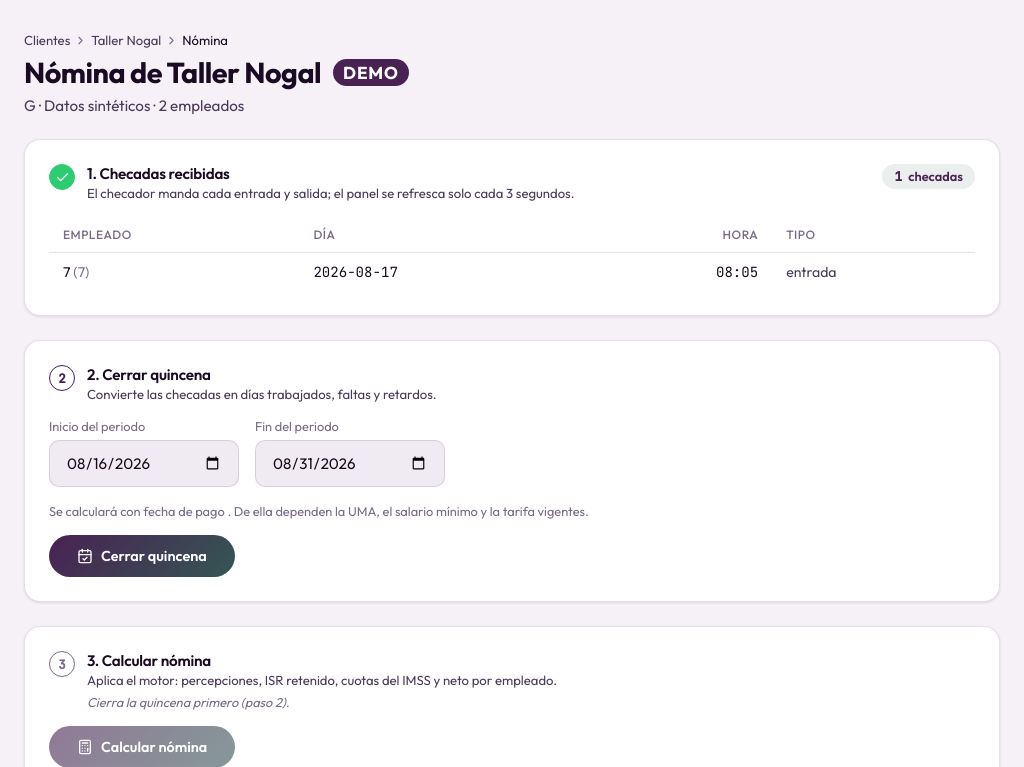
Scenario: el error de carga se descarta; el de las operaciones no › un fallo de cerrar-periodo SÍ se pinta, aunque el cliente esté en la cartera
The image size is (1024, 767).
Expected: the date field showing "2026-08-16" is shown, [49,440,239,487]
Click the button "Cerrar quincena": coordinates (142, 556) [49,535,235,577]
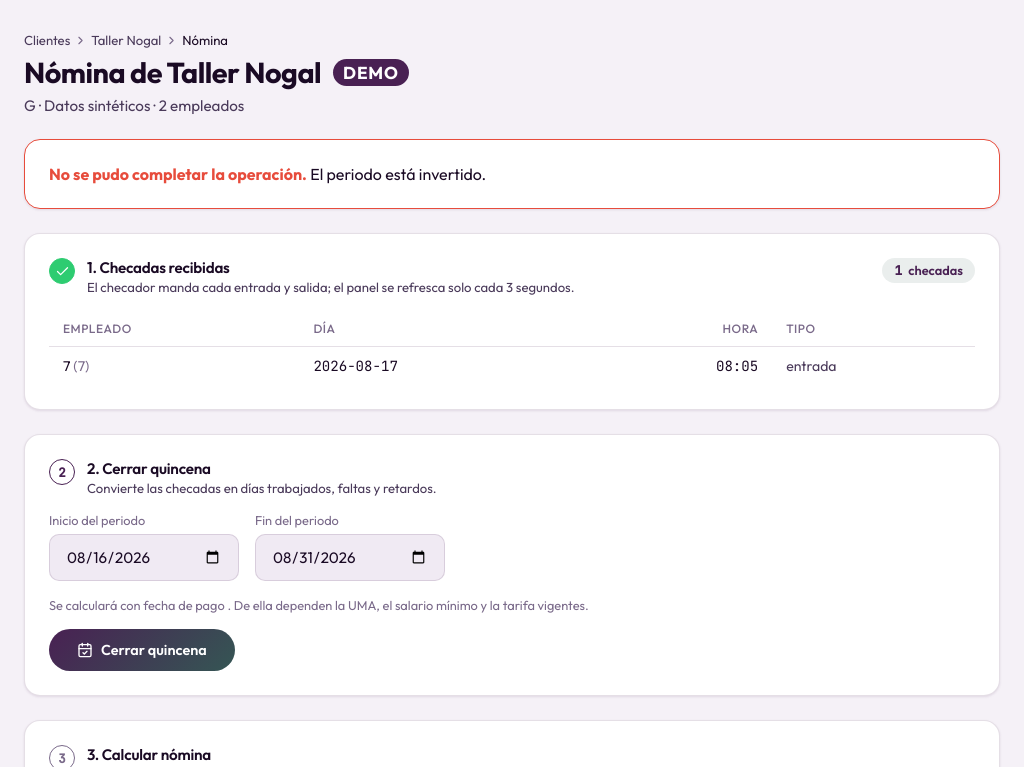
Now the text "El periodo está invertido" is shown, box [310,164,486,184]
